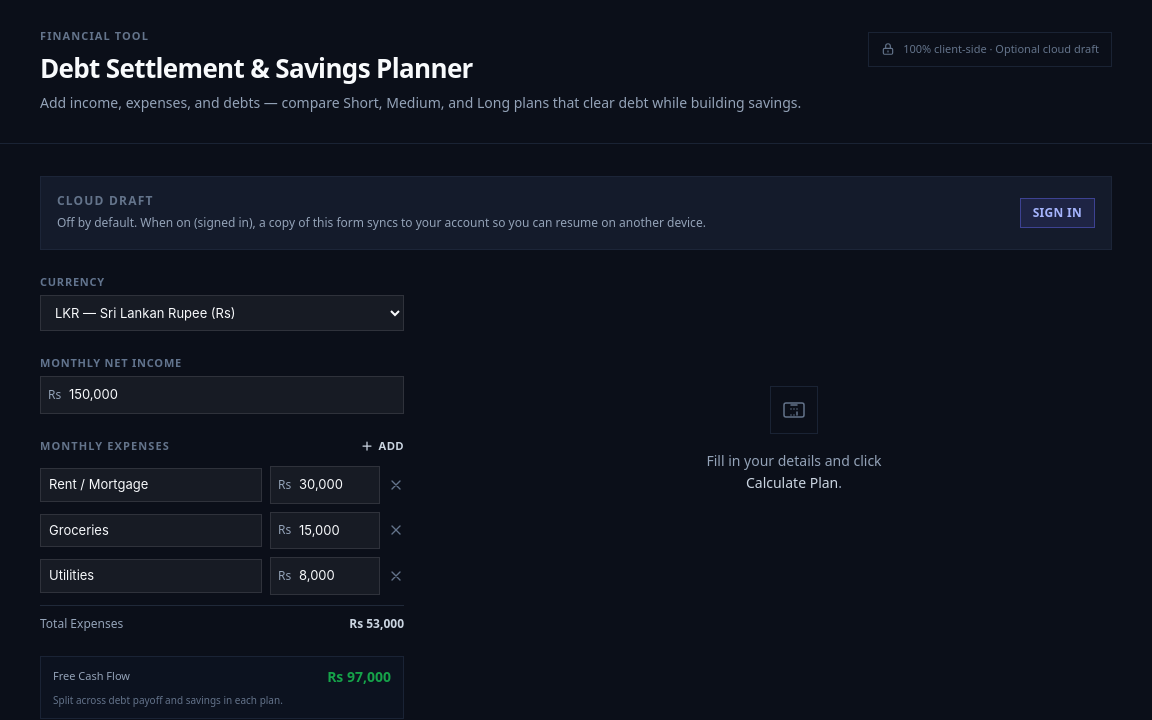
Test case: DebtOptimizerClient — error states after calculation › shows "Income does not cover" error when income is set to 1
Note: fireEvent.change bypasses the complex cursor management in AmountInput
Step 1. Replace the text in the field below "Monthly Net Income" with "1" → (222, 395), box [40, 376, 404, 414]
(page scrolled)
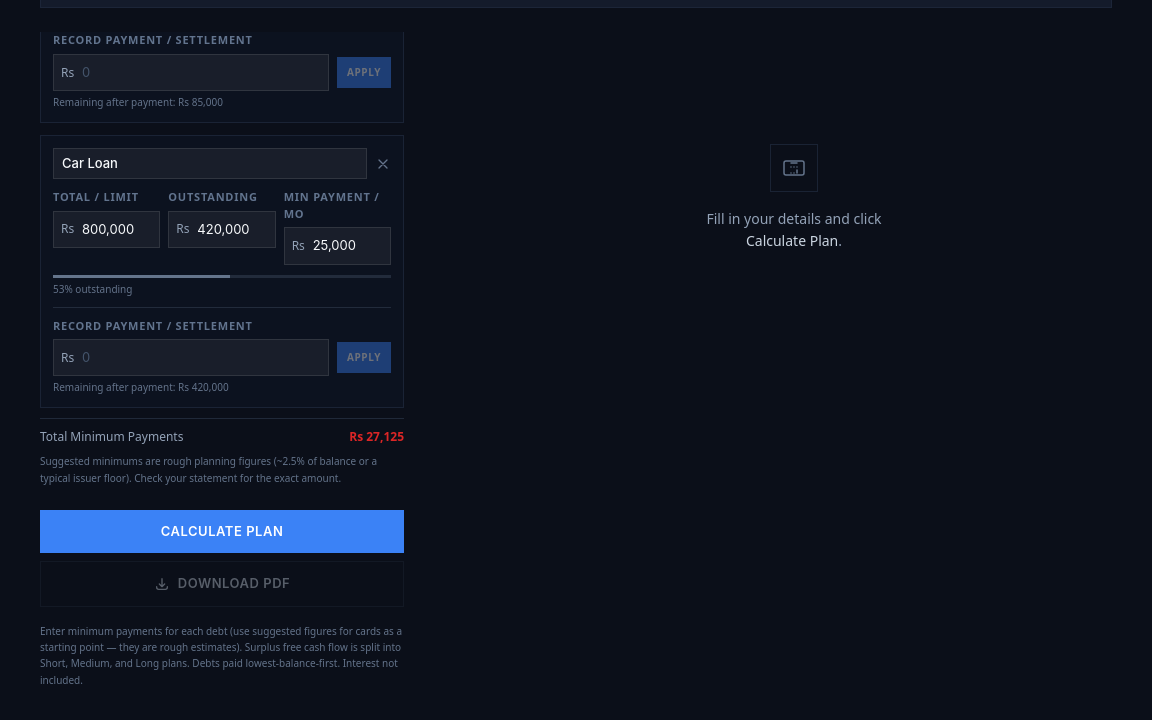
Step 2. Click the button "Calculate Plan" → (222, 532), box [40, 510, 404, 554]
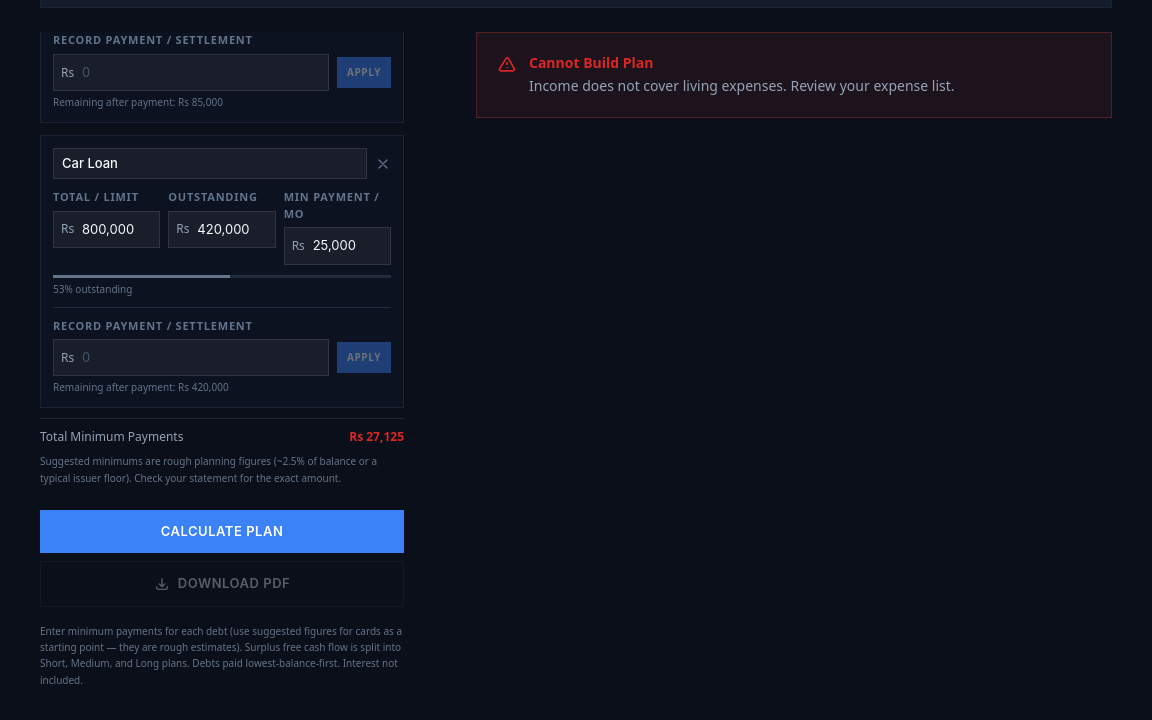
expect the text "Income does not cover living expenses" is shown: met, box [529, 76, 955, 94]
